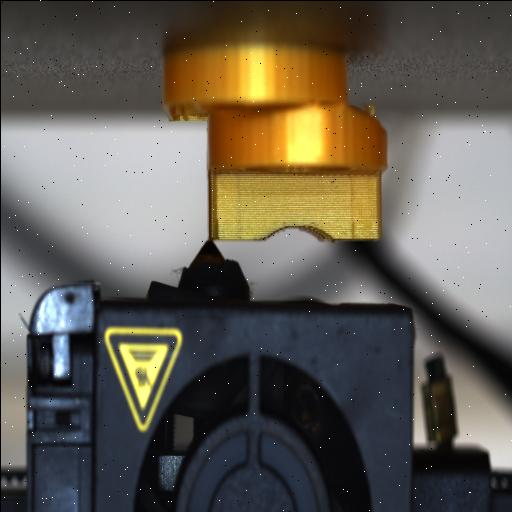layer_shift: (158, 92, 382, 130)
